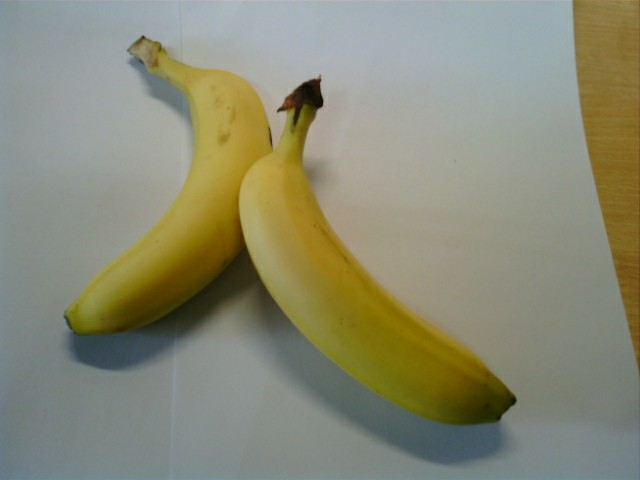fresh_banana: (240, 141, 520, 428), (60, 56, 271, 336)
